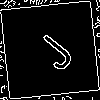J: (25, 25, 77, 74)
